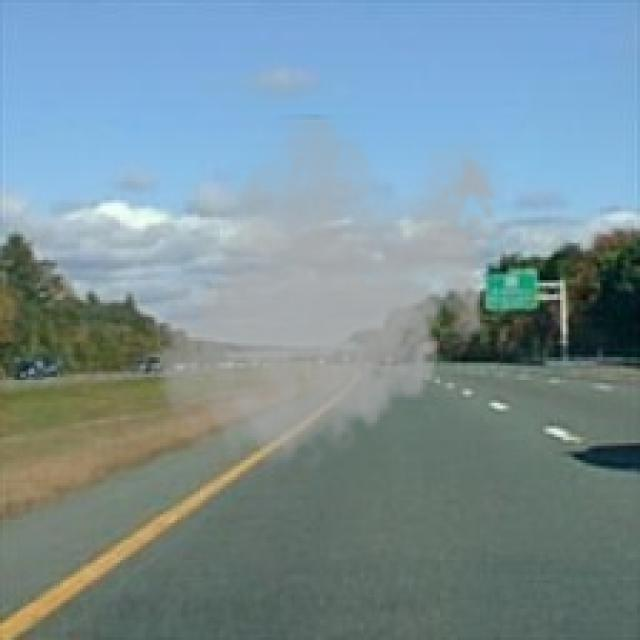smoke: (148, 114, 508, 477)
